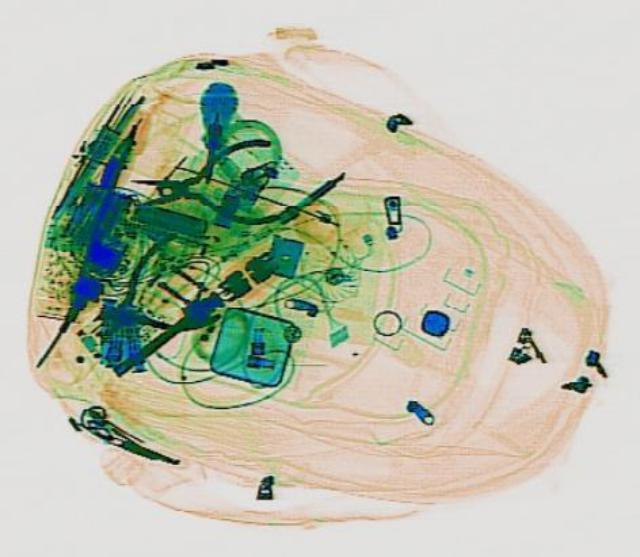Pliers: (65, 228, 237, 359), (121, 134, 281, 233)
